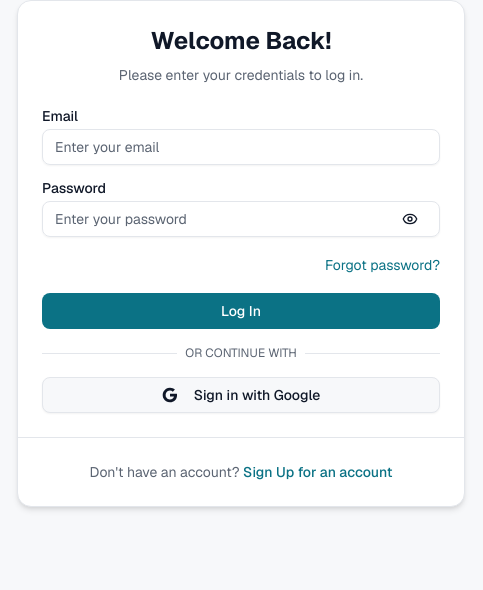
Test: LoginForm › displays server error message when login fails
In the field with placeholder "Enter your email": (241, 147) [42, 129, 440, 165], type "user@example.com"
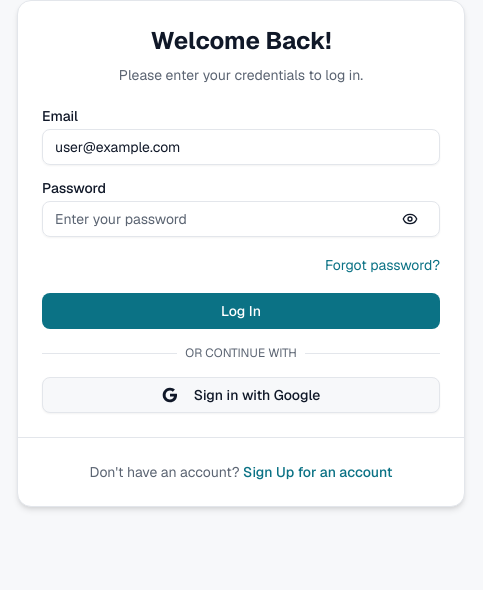
In the password field with placeholder "Enter your password": (241, 219) [42, 201, 440, 237], type "wrongpassword"
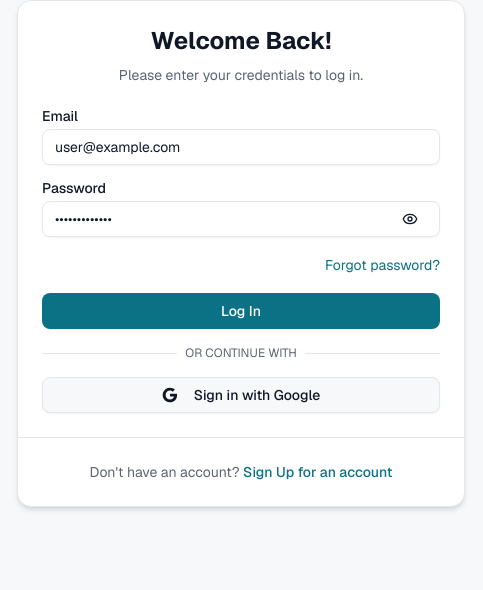
Submit the form, box [42, 109, 440, 329]
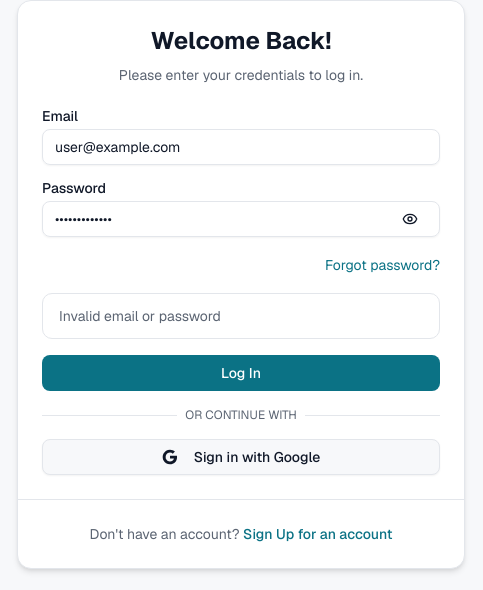
Expected: the text "Invalid email or password" is shown, [59, 307, 221, 325]
